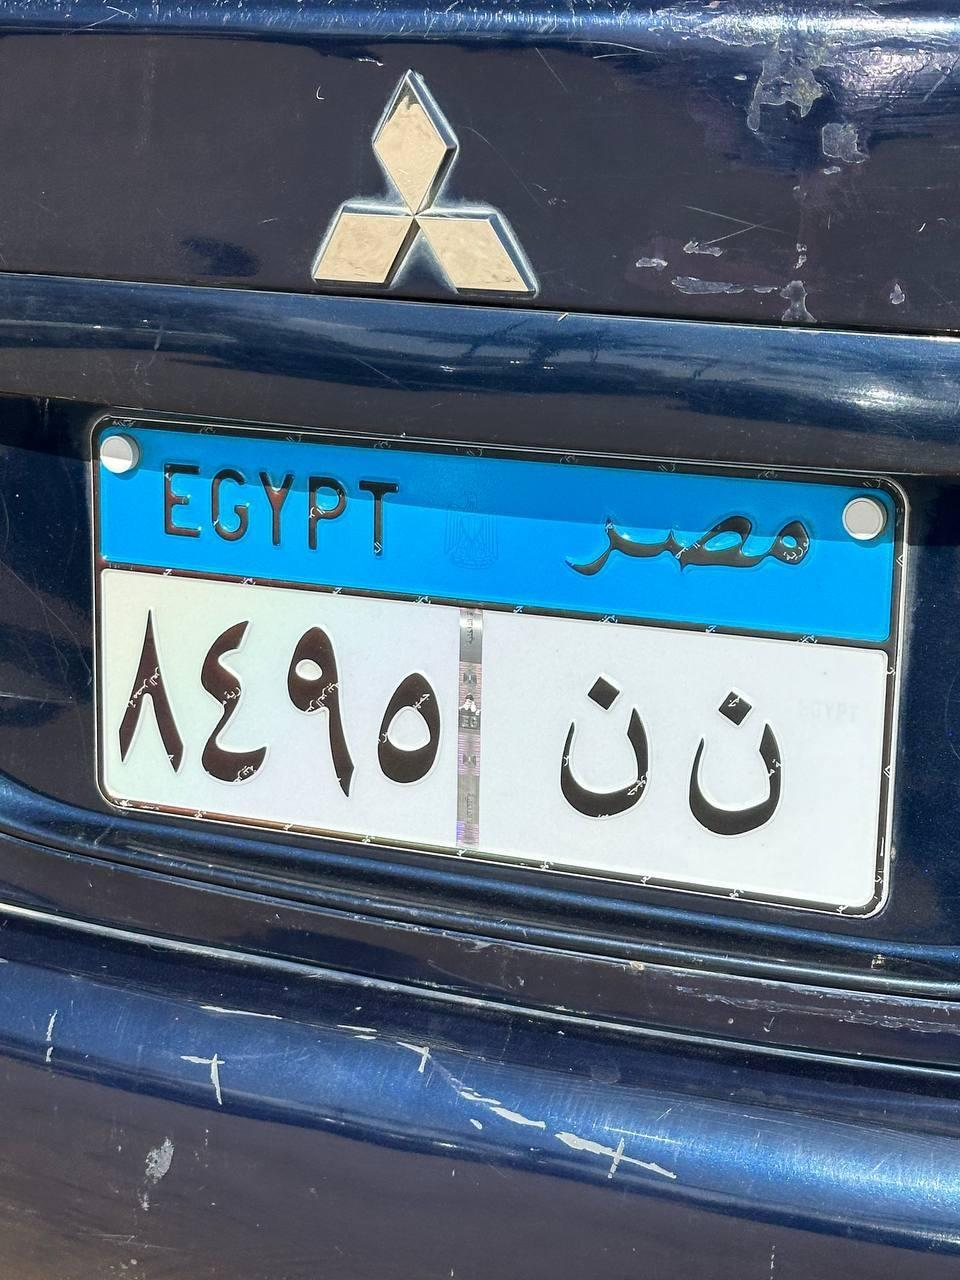4: (190, 610, 262, 782)
5: (366, 663, 446, 778)
8: (113, 600, 203, 772)
9: (276, 628, 368, 826)
License Plate: (83, 398, 909, 926)
Noon: (681, 684, 808, 846), (546, 673, 663, 822)
